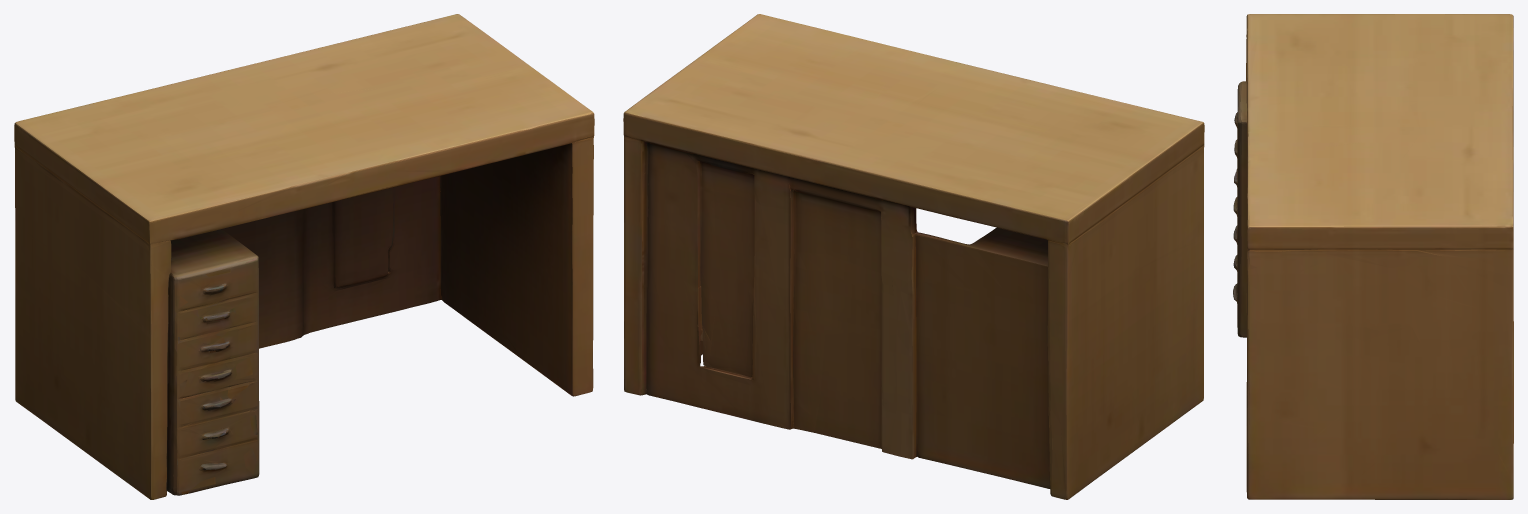
Rendered from desk_plain.glb.
3 renders of one model, left to right at view 1: azimuth 30°, elevation 25°; view 2: azimuth 150°, elevation 25°; view 3: azimuth 270°, elevation 25°, orthographic. The views are drawn at different scales.
Visible parts, largest first — view 1: geometry_0; view 2: geometry_0; view 3: geometry_0.
Boxes of the visible parts, left/top/right/bottom form: geometry_0: left=14, top=14, right=594, bottom=499; geometry_0: left=623, top=14, right=1204, bottom=499; geometry_0: left=1233, top=14, right=1513, bottom=499.
Size of the model in its own units: 0.9994 by 0.5999 by 0.5556.
Materials: 1 (1 with a texture image).
